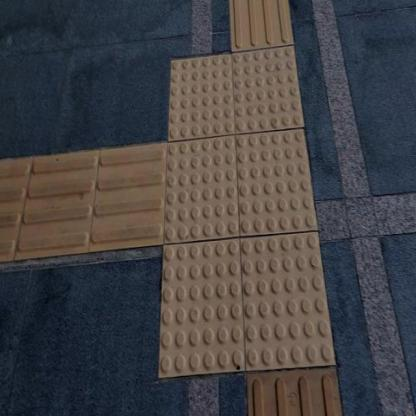podotacti: (136, 30, 366, 400), (0, 141, 164, 266), (248, 371, 336, 415), (234, 0, 292, 47)
